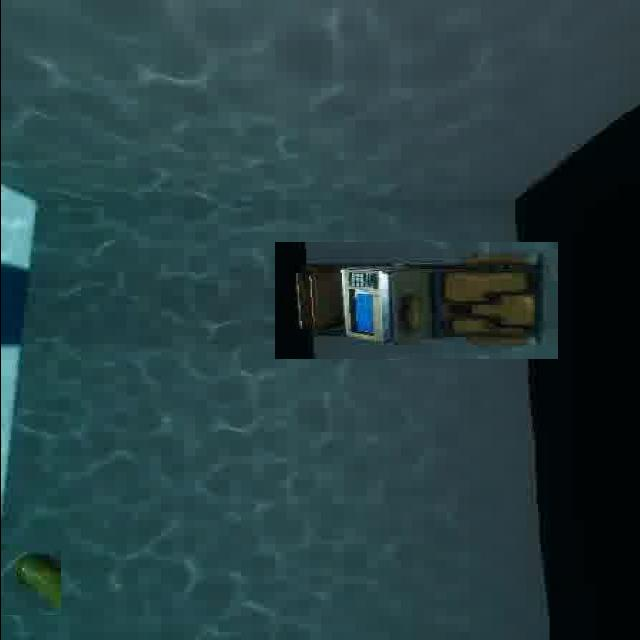Control Panel: (274, 242, 557, 359)
Pipe: (0, 550, 60, 615)
